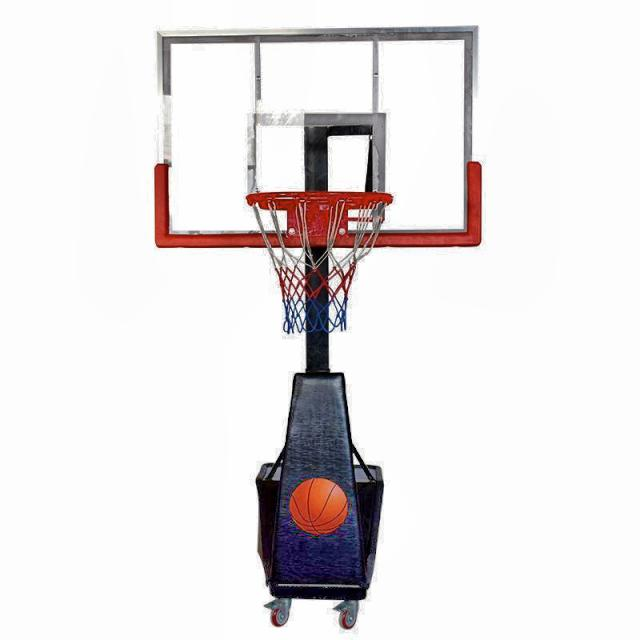rim: (245, 191, 393, 337)
